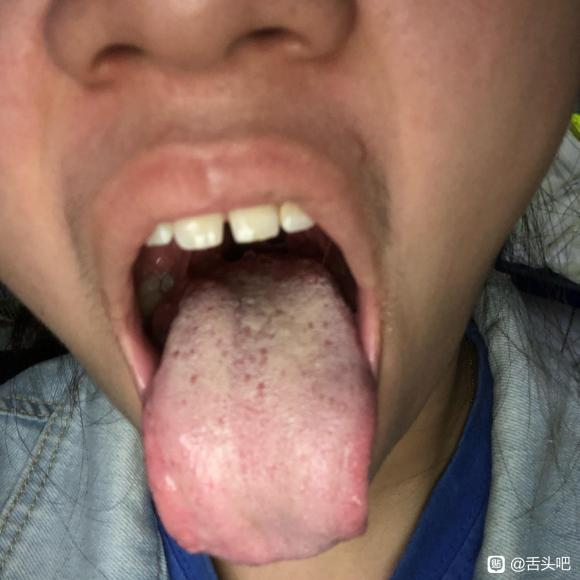baitaishe: (141, 256, 377, 567)
hongdianshe: (255, 380, 267, 397), (188, 373, 199, 387), (170, 348, 180, 359)
